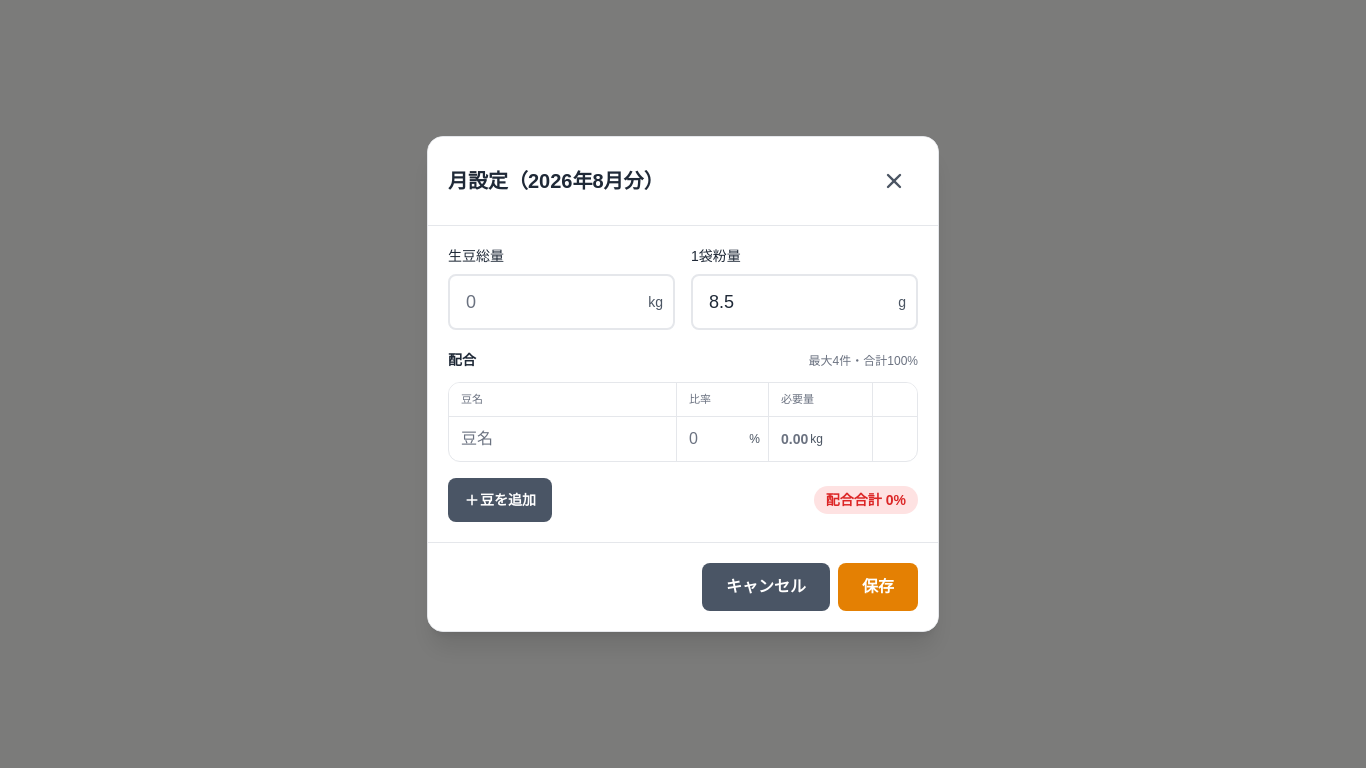
MonthSettingsModal › 生豆総量がハンドピック済み合計を下回ると保存できずエラーを表示する
In the number field labelled "生豆総量": (562, 302) [448, 274, 675, 330], type "10"
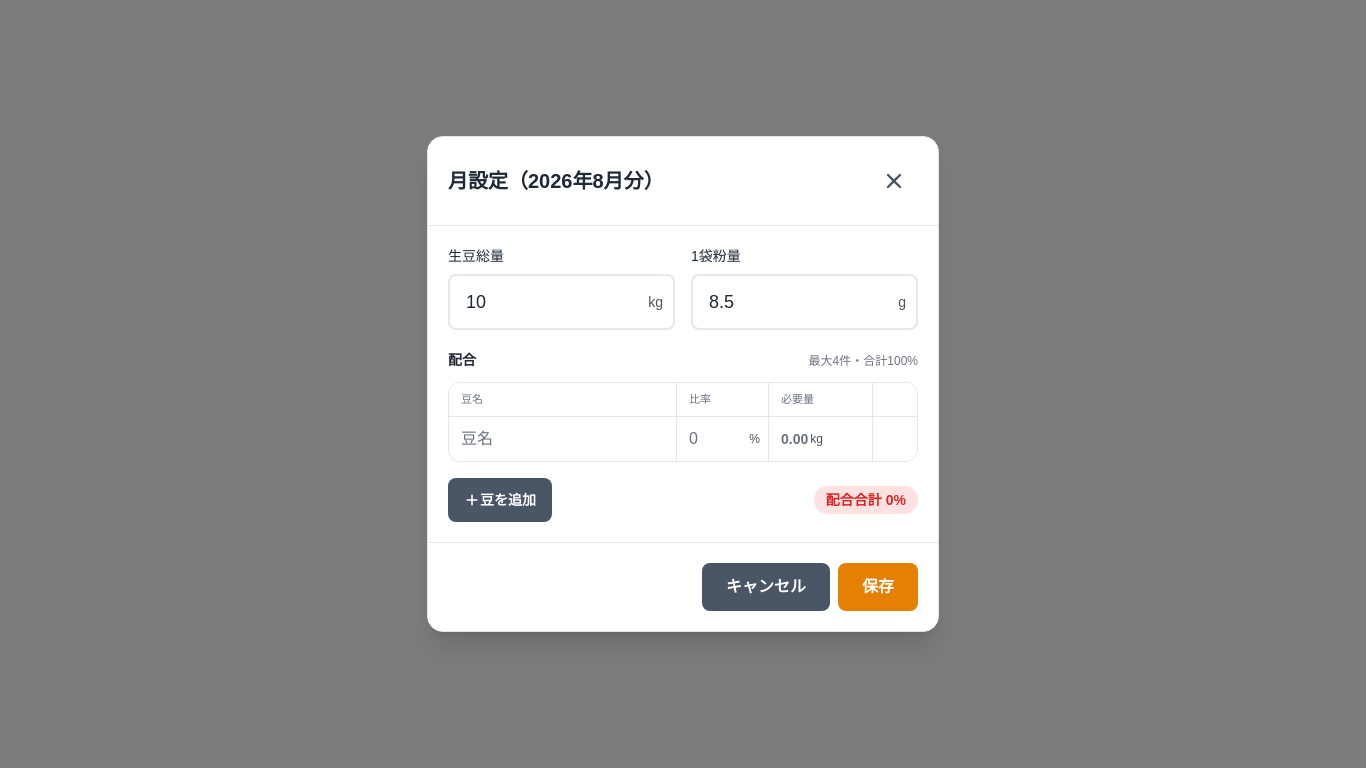
In the field named "豆 1": (563, 439) [449, 417, 677, 461], type "ブラジル"
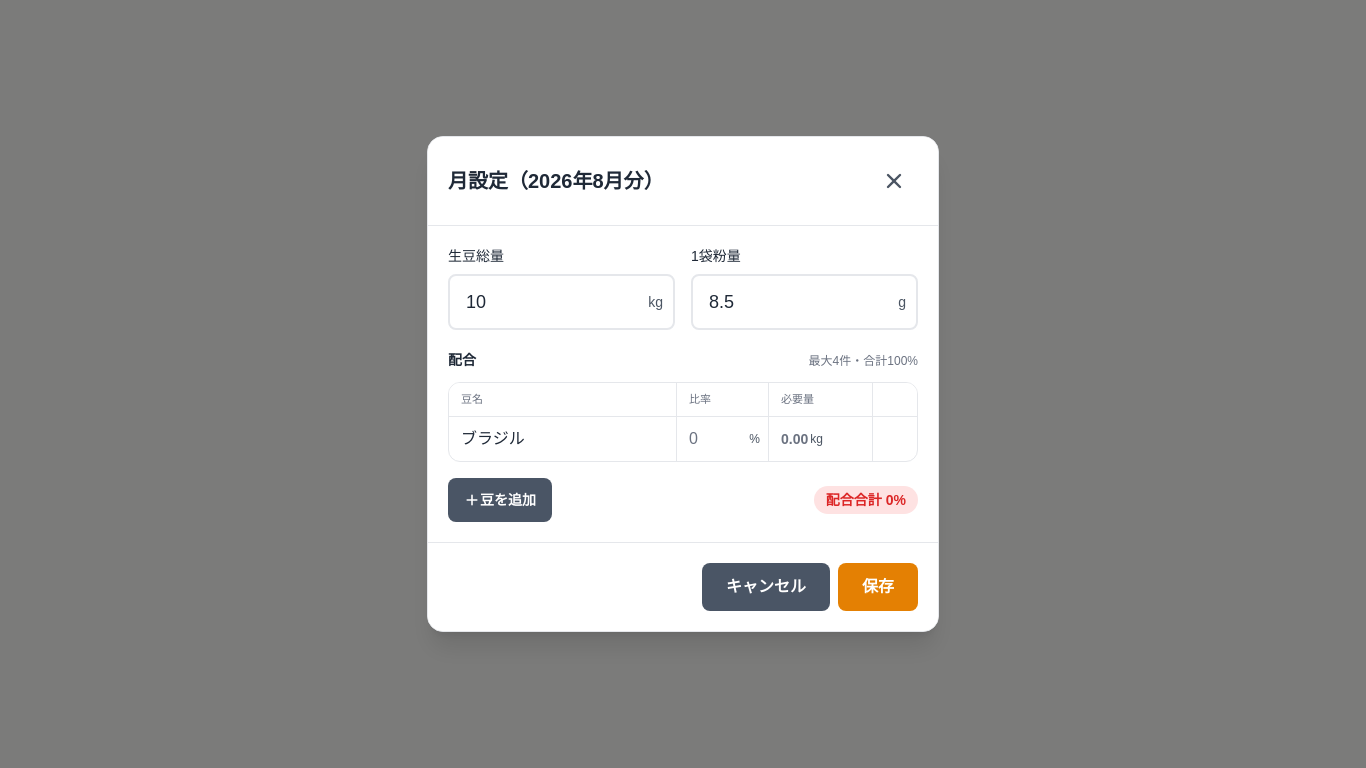
In the number field named "比率": (722, 439) [677, 417, 768, 461], type "100"
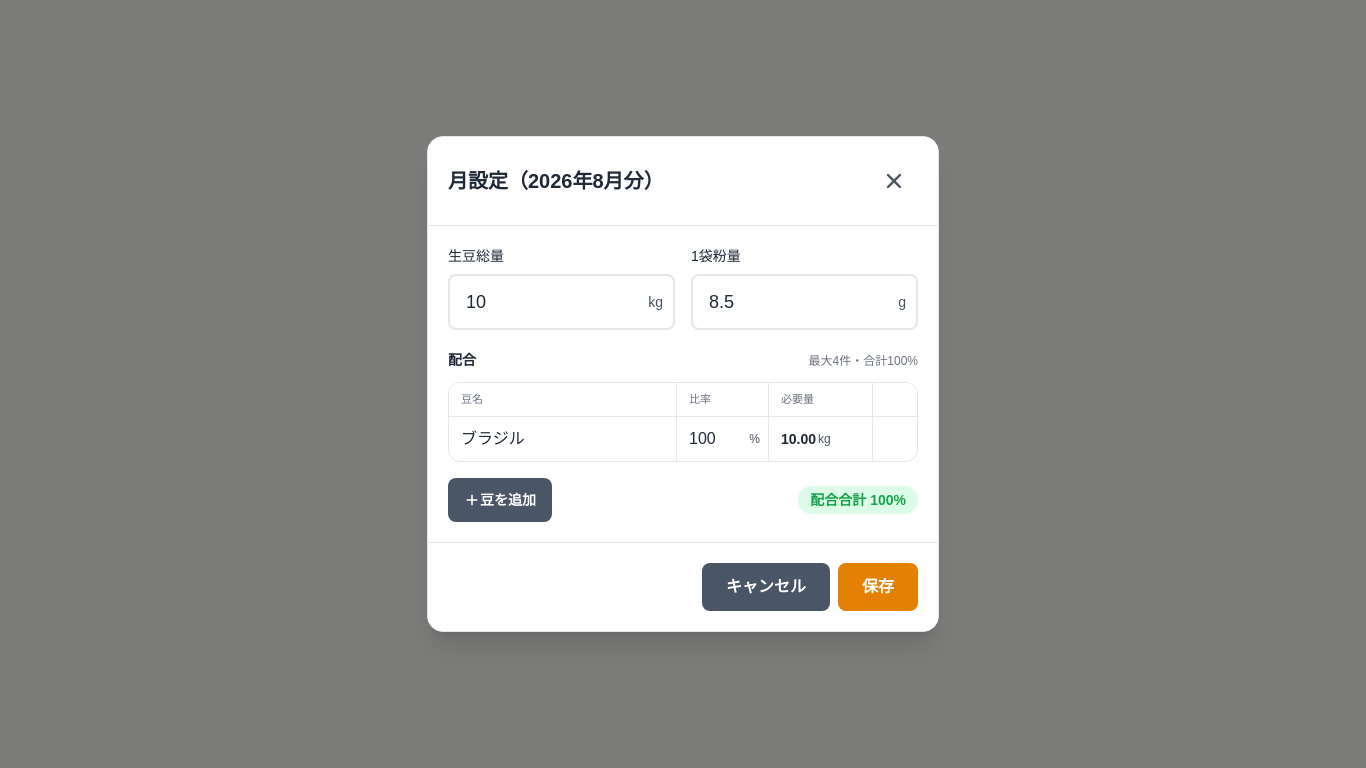
Click the button "保存": (878, 587) [838, 563, 918, 611]
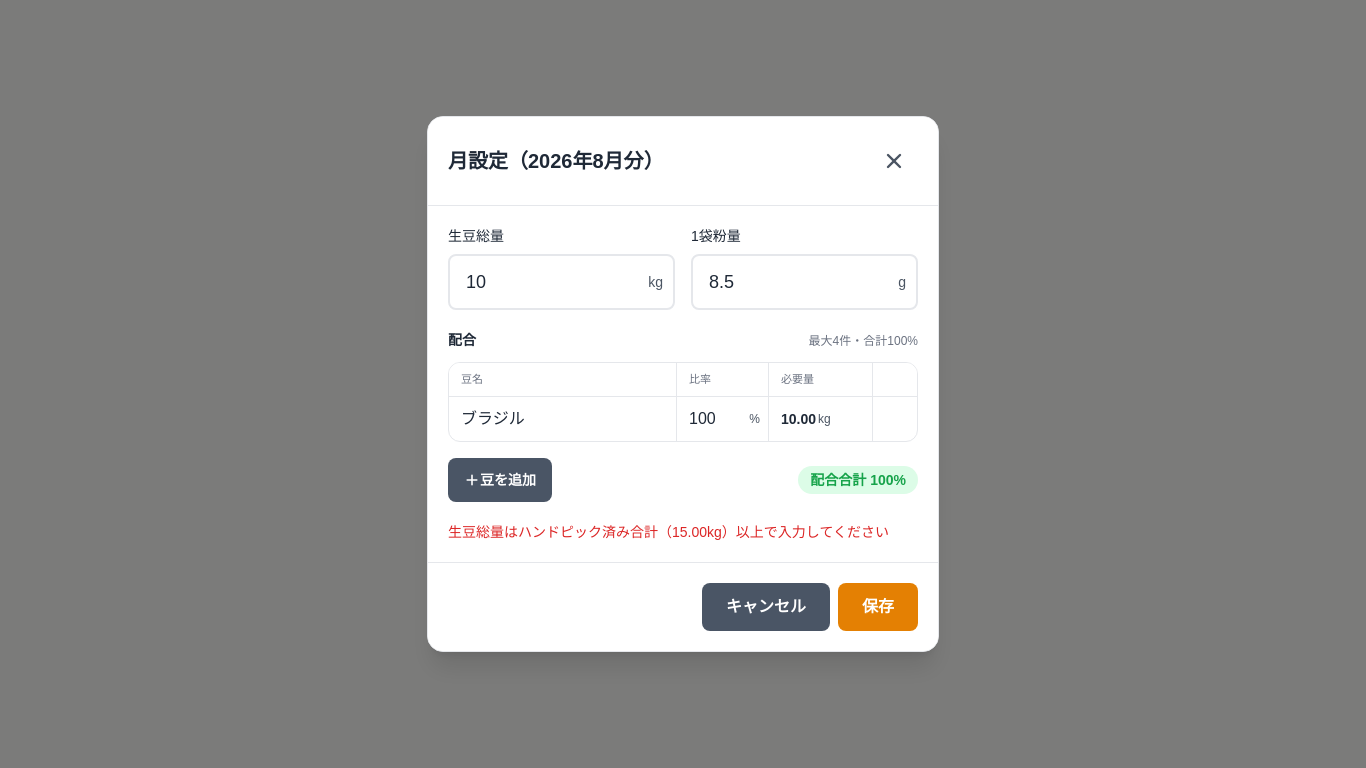
Expected: the message "生豆総量はハンドピック済み合計（15.00kg）以上で入力してください" is shown, [448, 522, 918, 542]
